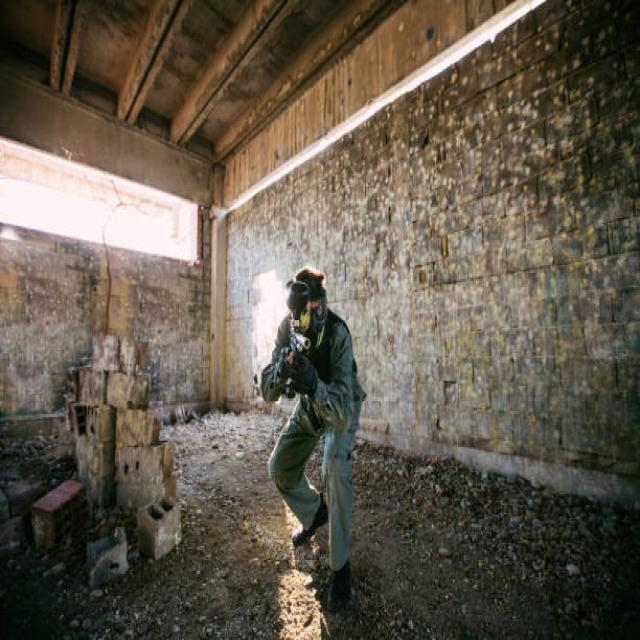soldier: (259, 260, 384, 628)
